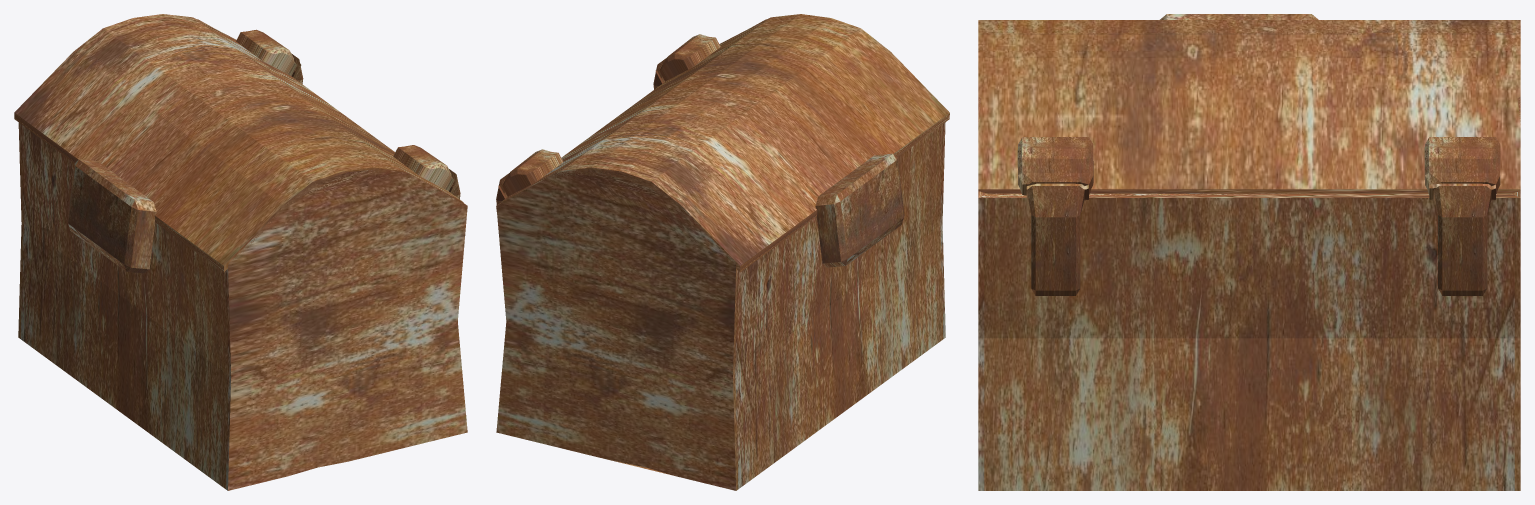
The model's file is ChestCartoon.obj.
3 renders of one model, left to right at view 1: azimuth 30°, elevation 25°; view 2: azimuth 150°, elevation 25°; view 3: azimuth 270°, elevation 25°, orthographic. The views are drawn at different scales.
Parts seen in each view (by area): view 1: Mesh.002_Cube.008; view 2: Mesh.002_Cube.008; view 3: Mesh.002_Cube.008.
Part boxes in pixels (left/top/right/bottom): Mesh.002_Cube.008: left=14, top=14, right=467, bottom=490; Mesh.002_Cube.008: left=496, top=14, right=949, bottom=490; Mesh.002_Cube.008: left=978, top=14, right=1520, bottom=490.
Size of the model in its own units: 9.36 by 9.14 by 11.91.
Materials: 2 (2 with a texture image).
